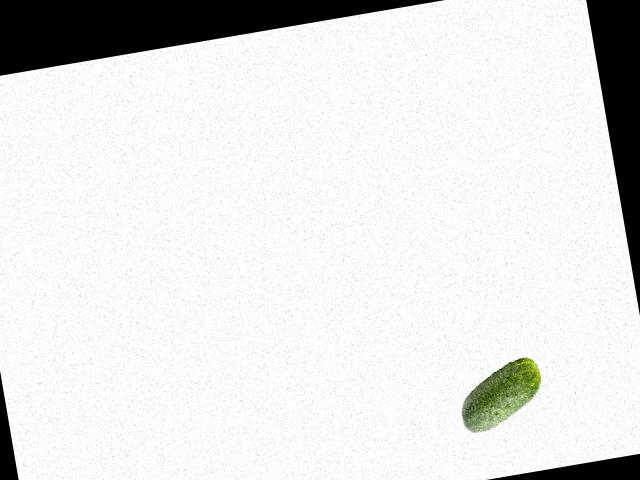cucumber: (453, 356, 548, 435)
